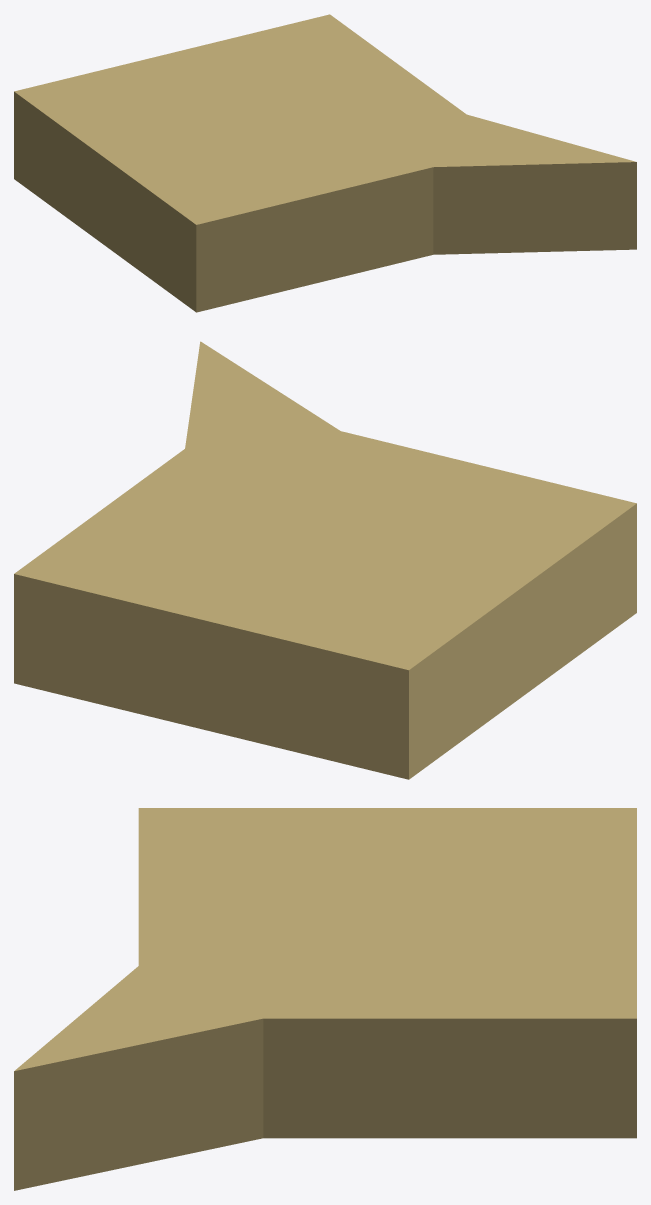
The model's file is corner_sand.glb.
3 views of the same model, one above another, from view 1: azimuth 30°, elevation 25°; view 2: azimuth 150°, elevation 25°; view 3: azimuth 270°, elevation 25° (orthographic). The views are drawn at different scales.
Visible parts, largest first — view 1: corner_sand; view 2: corner_sand; view 3: corner_sand.
Boxes of the visible parts, bbox=[...] form: corner_sand: bbox=[14, 14, 636, 312]; corner_sand: bbox=[14, 341, 636, 779]; corner_sand: bbox=[14, 808, 636, 1190].
Size of the model in its own units: 0.5 by 0.106 by 0.5.
